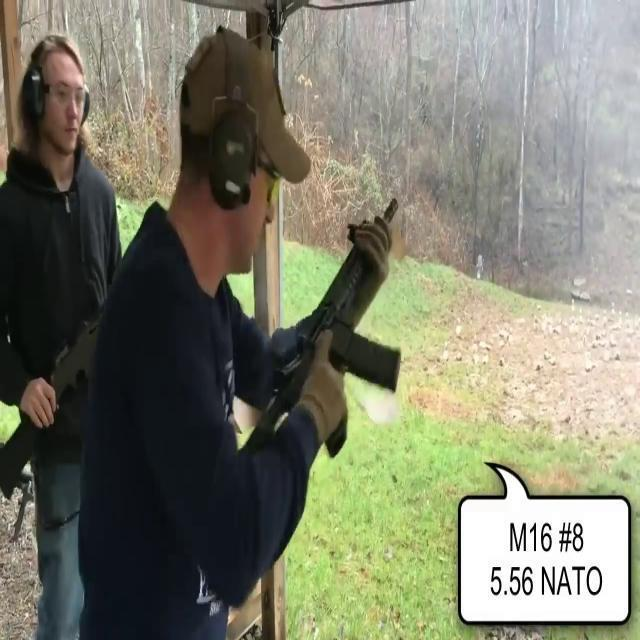Handgun: (238, 166, 419, 499)
